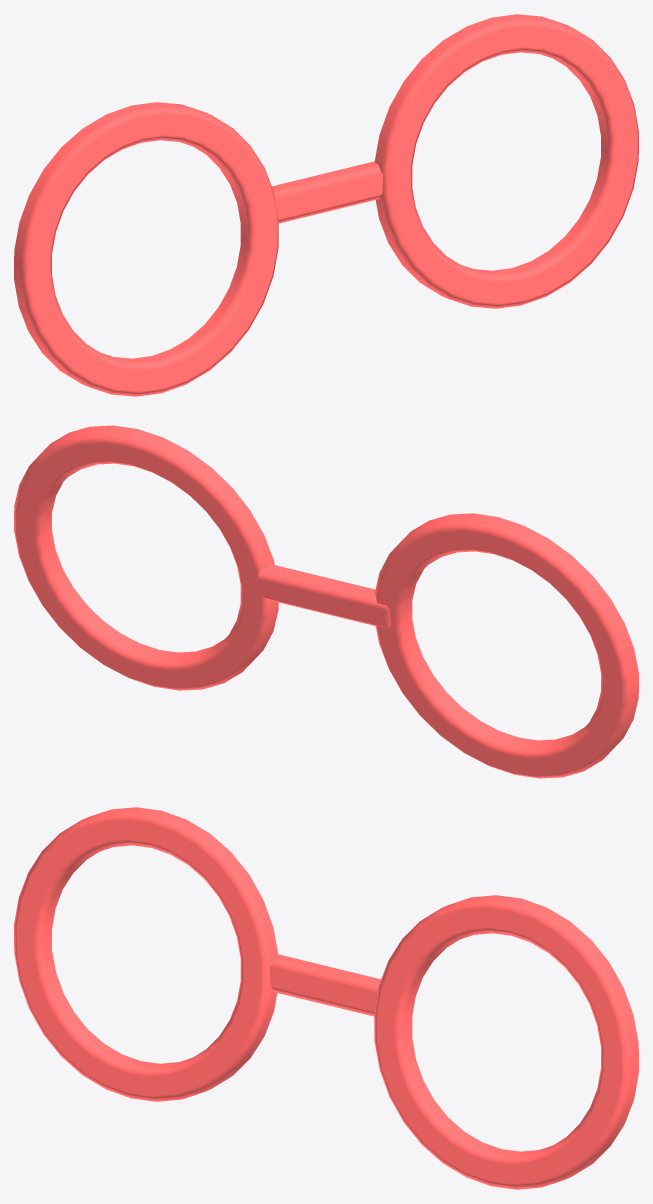
Rendered from Glasses.glb.
3 renders of one model, top to bottom at view 1: azimuth 30°, elevation 25°; view 2: azimuth 150°, elevation 25°; view 3: azimuth 330°, elevation 25°, orthographic.
Visible parts, largest first — view 1: Cylinder, Cylinder 2, Cube 17; view 2: Cylinder, Cylinder 2, Cube 17; view 3: Cylinder 2, Cylinder, Cube 17.
Boxes of the visible parts, x1,y1,x2,y2 form: Cylinder: (14,102,278,396); Cylinder 2: (374,14,638,308); Cube 17: (272,161,382,223); Cylinder: (374,513,638,778); Cylinder 2: (14,425,278,690); Cube 17: (256,564,390,627); Cylinder 2: (374,895,638,1189); Cylinder: (14,807,278,1101); Cube 17: (270,954,380,1016).
Bounding box in the file's own units: 0.43 × 0.1793 × 0.0446.
